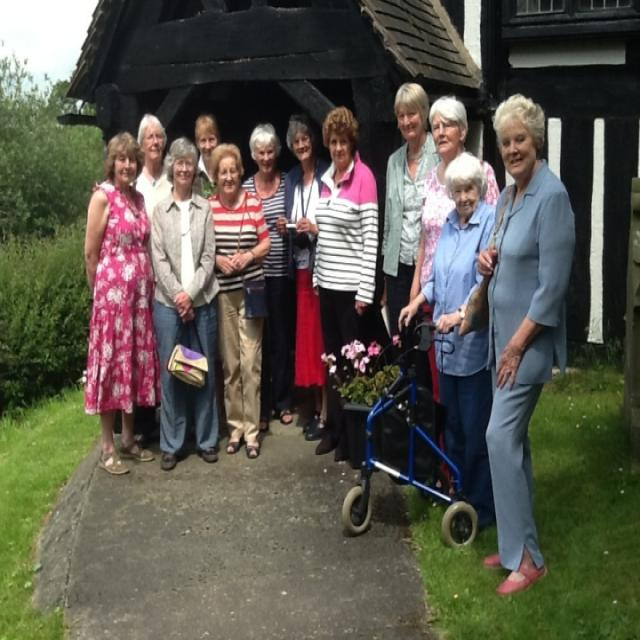body: (474, 91, 577, 596), (396, 149, 498, 532), (408, 94, 502, 506), (84, 128, 162, 476), (310, 103, 382, 464), (147, 135, 223, 472), (205, 143, 271, 459), (380, 78, 440, 401), (275, 111, 333, 432), (239, 120, 295, 436), (532, 418, 639, 542), (128, 110, 175, 220), (190, 113, 222, 200)
